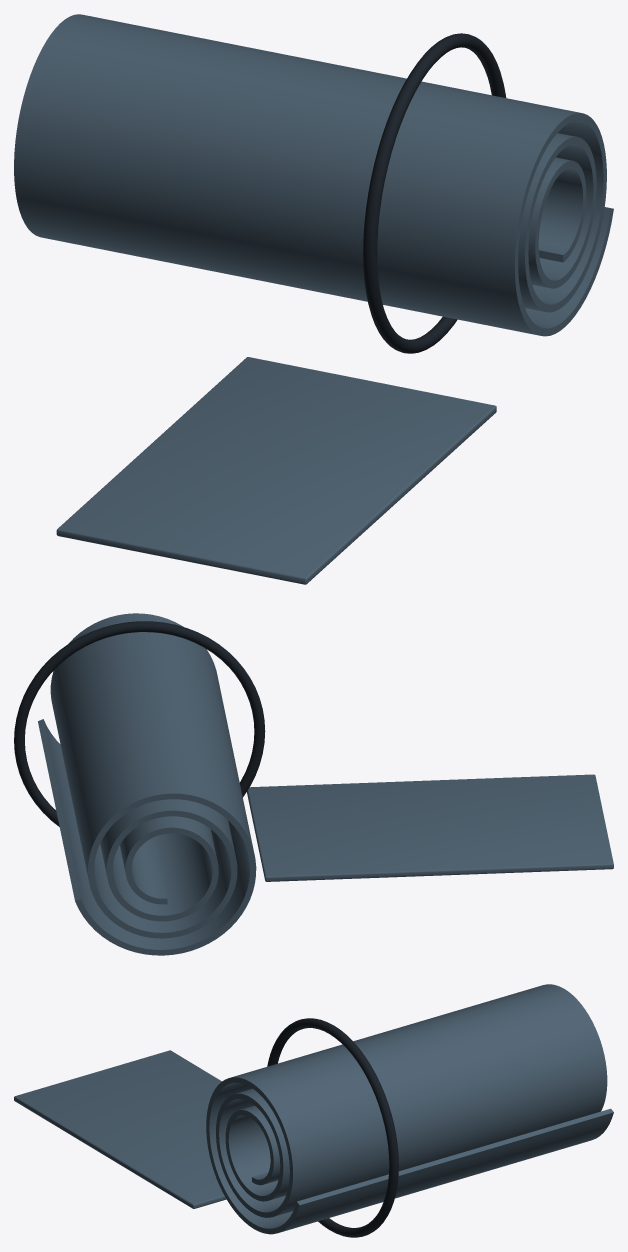
Rendered from yoga-mat.glb.
3 views of the same model, one above another, from view 1: azimuth 30°, elevation 25°; view 2: azimuth 150°, elevation 25°; view 3: azimuth 270°, elevation 25° (orthographic). The views are drawn at different scales.
Visible parts, largest first — view 1: titan.mat.roll, titan.mat.tongue, titan.mat.strap-loop; view 2: titan.mat.roll, titan.mat.tongue, titan.mat.strap-loop; view 3: titan.mat.roll, titan.mat.tongue, titan.mat.strap-loop.
Boxes of the visible parts, x1,y1,x2,y2 form: titan.mat.roll: [14, 14, 613, 336]; titan.mat.tongue: [56, 357, 496, 584]; titan.mat.strap-loop: [363, 33, 506, 353]; titan.mat.roll: [38, 613, 256, 955]; titan.mat.tongue: [247, 774, 613, 881]; titan.mat.strap-loop: [14, 621, 265, 826]; titan.mat.roll: [206, 984, 613, 1234]; titan.mat.tongue: [14, 1050, 226, 1208]; titan.mat.strap-loop: [267, 1018, 398, 1237].
Size of the model in its own units: 1.49 by 0.648 by 1.72.
